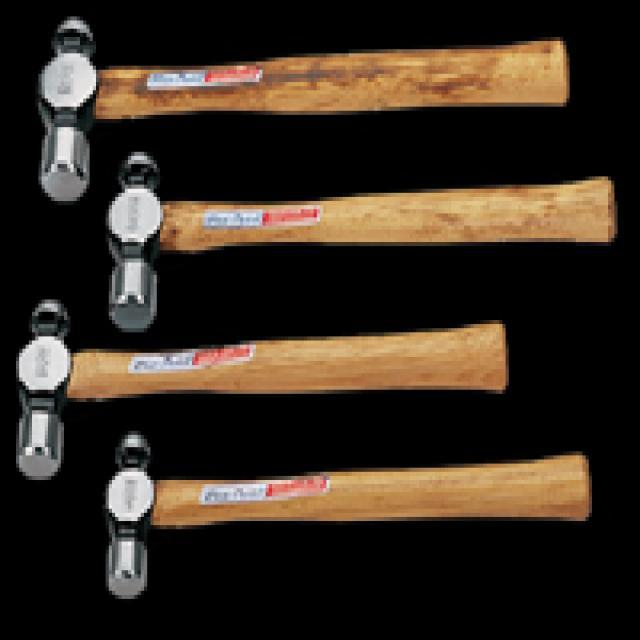hammer: (0, 294, 561, 492), (104, 148, 624, 344), (30, 6, 577, 191), (95, 408, 608, 604)
